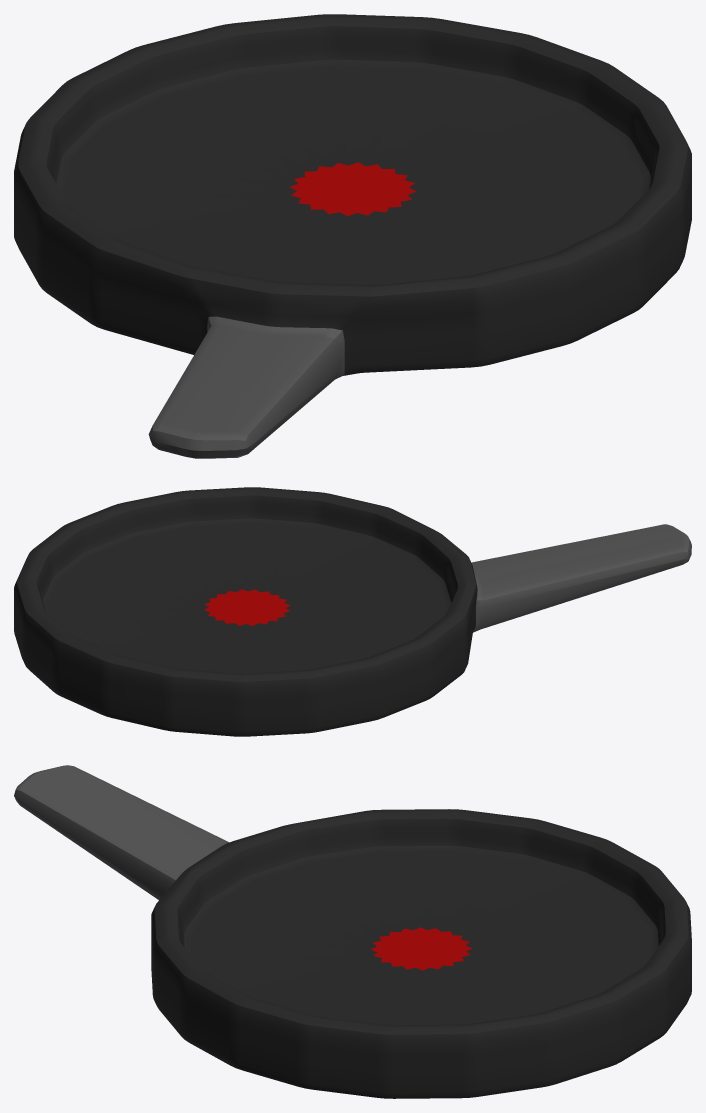
Rendered from Frying Pan.fbx.
3 views of the same model, one above another, from view 1: azimuth 30°, elevation 25°; view 2: azimuth 150°, elevation 25°; view 3: azimuth 270°, elevation 25° (orthographic). The views are drawn at different scales.
Parts seen in each view (by area): view 1: Frying_Pan; view 2: Frying_Pan; view 3: Frying_Pan.
Part boxes in pixels (<box>): Frying_Pan: <box>14,14,691,458</box>; Frying_Pan: <box>14,487,691,736</box>; Frying_Pan: <box>14,765,691,1098</box>.
Size of the model in its own units: 54.41 by 6.35 by 55.73.
